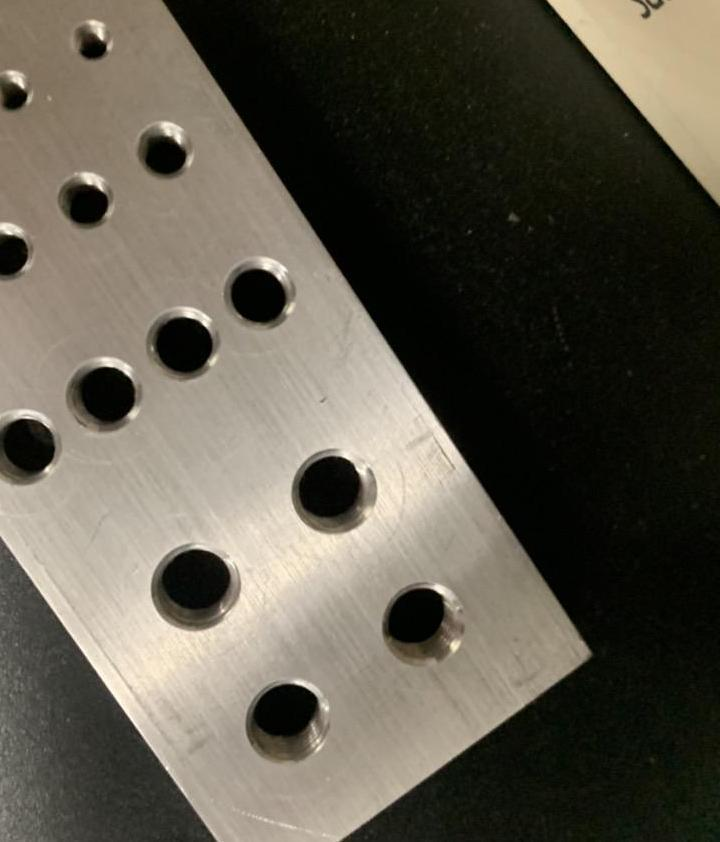hole: (238, 676, 332, 768), (147, 542, 241, 632), (293, 450, 380, 542), (371, 578, 459, 668), (62, 357, 142, 435), (147, 300, 226, 378), (223, 257, 294, 337), (0, 404, 60, 485), (134, 118, 198, 178), (55, 170, 118, 229), (65, 19, 121, 70), (0, 220, 36, 284), (0, 68, 42, 115)
